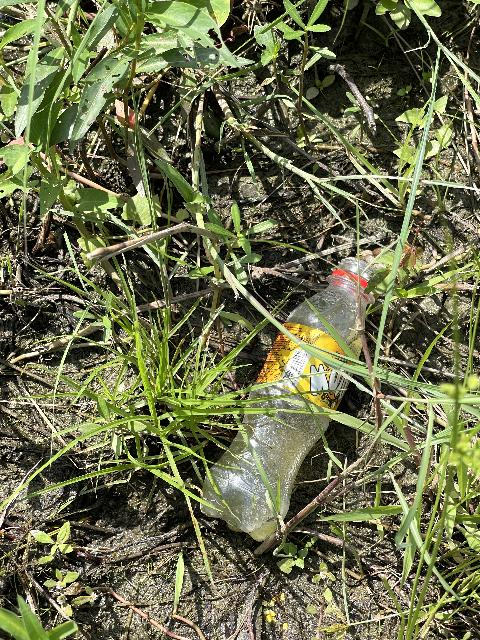bottle: (194, 252, 409, 536)
